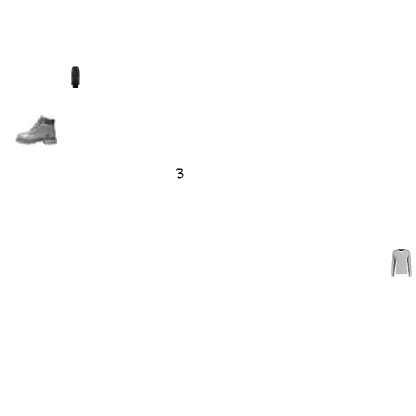3: (173, 166, 187, 180)
Ankle_boot: (15, 109, 57, 151)
Dress: (64, 66, 86, 88)
Pullover: (387, 249, 415, 277)
